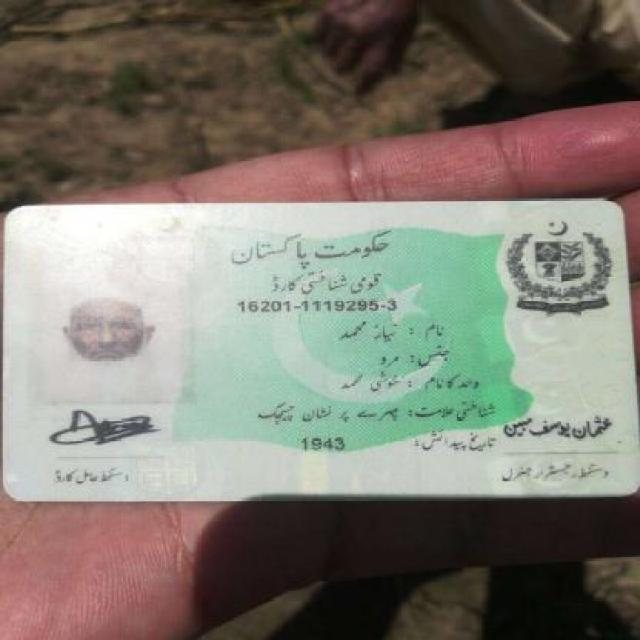Front: (4, 200, 638, 497)
